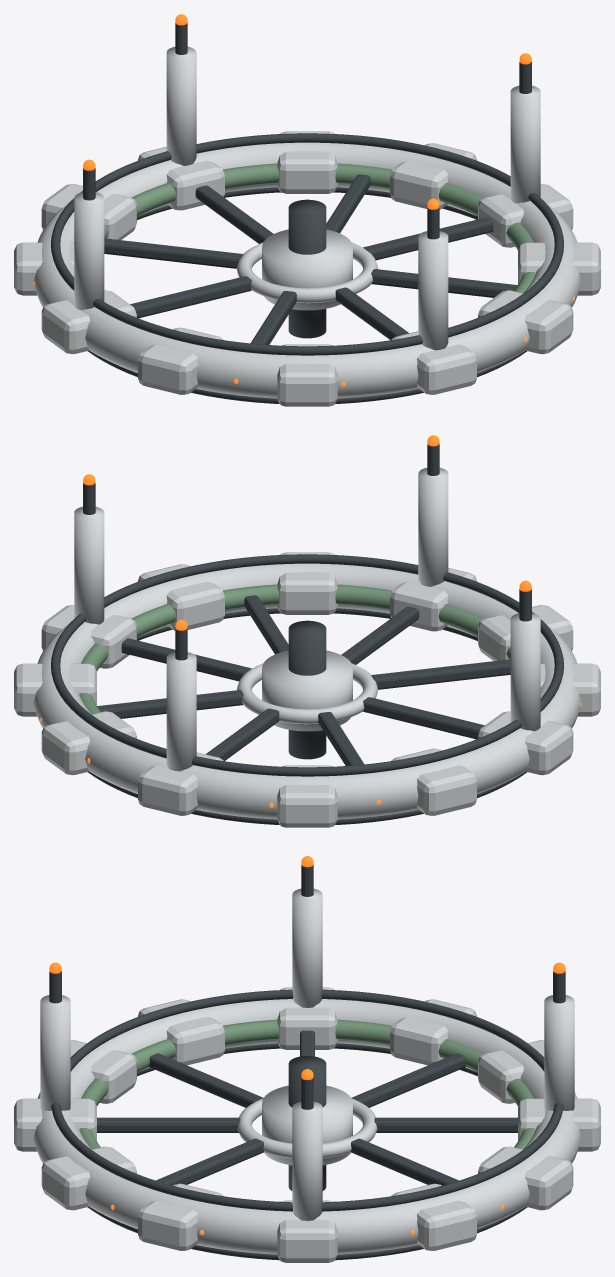
Rendered from orbital-ring.glb.
The picture shows the model from 3 angles, top to bottom: view 1: azimuth 30°, elevation 25°; view 2: azimuth 150°, elevation 25°; view 3: azimuth 270°, elevation 25°; orthographic projection.
Parts seen in each view (by area): view 1: Habitat_MainRing, Habitat_UpperRail, Habitat_GardenRibbon, Hub_Main, DockingPylon_04, DockingPylon_02, DockingPylon_03, DockingPylon_01, Hub_VerticalCore, HabitatModule_08, HabitatModule_09, HabitatModule_03 (+19 smaller); view 2: Habitat_MainRing, Habitat_UpperRail, Habitat_GardenRibbon, Hub_Main, DockingPylon_02, DockingPylon_04, DockingPylon_03, DockingPylon_01, Hub_VerticalCore, HabitatModule_06, HabitatModule_05, HabitatModule_11 (+19 smaller); view 3: Habitat_MainRing, Habitat_UpperRail, Habitat_GardenRibbon, DockingPylon_01, DockingPylon_03, DockingPylon_02, DockingPylon_04, Hub_Main, HabitatModule_02, HabitatModule_12, HabitatModule_01, HabitatModule_03 (+17 smaller).
Boxes of the visible parts, x1,y1,x2,y2 form: Habitat_MainRing: (33, 142, 581, 398); Habitat_UpperRail: (51, 133, 563, 355); Habitat_GardenRibbon: (104, 163, 535, 293); Hub_Main: (262, 229, 352, 310); DockingPylon_04: (418, 231, 448, 350); DockingPylon_02: (166, 46, 196, 165); DockingPylon_03: (74, 192, 104, 310); DockingPylon_01: (510, 85, 540, 203); Hub_VerticalCore: (288, 199, 326, 338); HabitatModule_08: (138, 327, 223, 394); HabitatModule_09: (277, 344, 337, 406); HabitatModule_03: (277, 131, 337, 193); Habitat_MainRing: (33, 563, 581, 819); Habitat_UpperRail: (51, 554, 563, 776); Habitat_GardenRibbon: (79, 584, 510, 714); Hub_Main: (262, 650, 352, 731); DockingPylon_02: (166, 652, 196, 771); DockingPylon_04: (418, 467, 448, 586); DockingPylon_03: (510, 613, 540, 731); DockingPylon_01: (74, 506, 104, 624); Hub_VerticalCore: (288, 620, 326, 759); HabitatModule_06: (391, 748, 476, 815); HabitatModule_05: (277, 765, 337, 827); HabitatModule_11: (277, 552, 337, 614); Habitat_MainRing: (33, 999, 581, 1254); Habitat_UpperRail: (51, 989, 563, 1211); Habitat_GardenRibbon: (79, 1019, 535, 1149); DockingPylon_01: (292, 1101, 322, 1220); DockingPylon_03: (292, 888, 322, 1007); DockingPylon_02: (544, 995, 574, 1110); DockingPylon_04: (40, 995, 70, 1110); Hub_Main: (262, 1085, 352, 1165); HabitatModule_02: (391, 1183, 476, 1250); HabitatModule_12: (138, 1183, 223, 1250); HabitatModule_01: (277, 1200, 337, 1262); HabitatModule_03: (478, 1146, 573, 1210).
Bounding box in the file's own units: 9.32 × 3.92 × 9.32.
